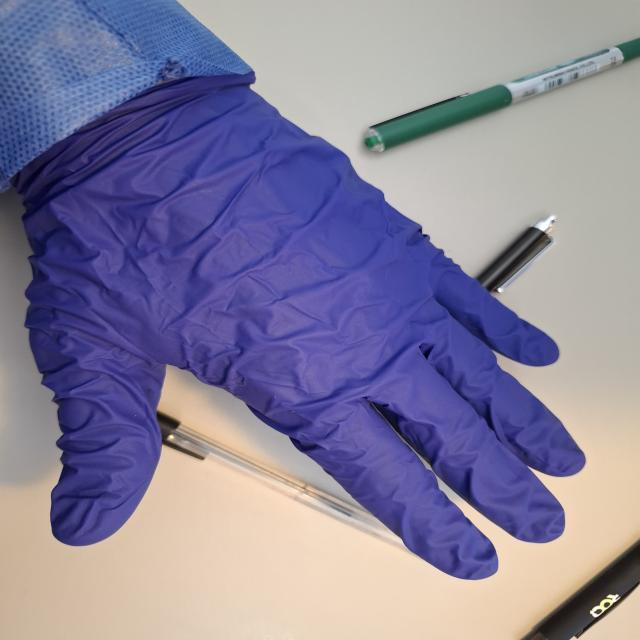glove_on: (9, 62, 588, 584)
